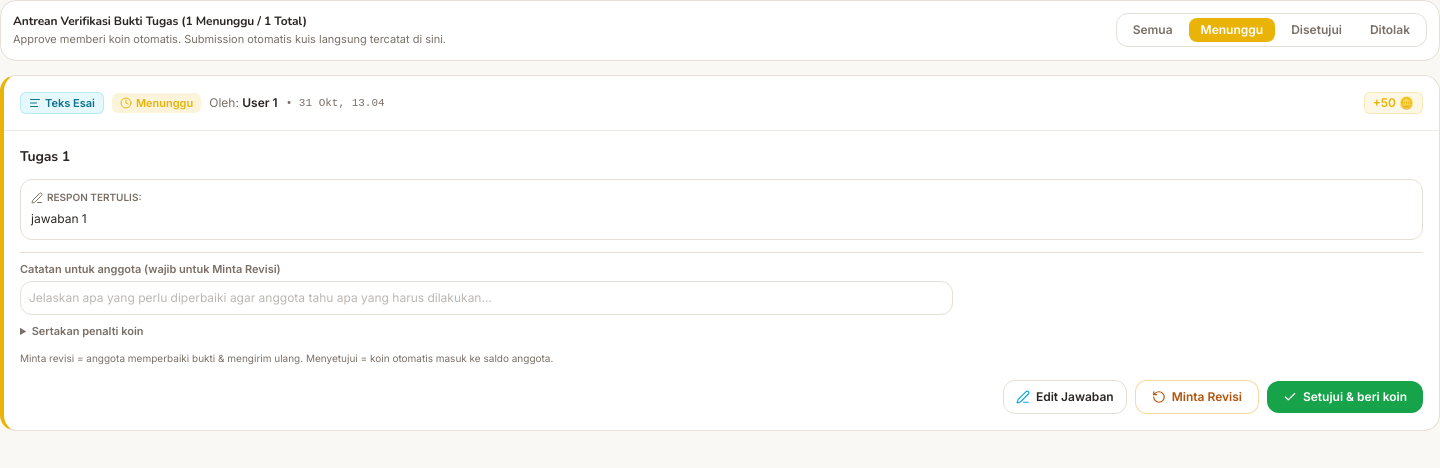
Test: SubmissionsQueue Minta Revisi flow › blocks verification and displays error when note is empty
Check: the heading "Tugas 1" is shown, box x1=20 y1=147 x2=70 y2=166
Click the button with aria-label "Minta revisi Tugas 1" at (1197, 397), box x1=1135 y1=380 x2=1259 y2=414
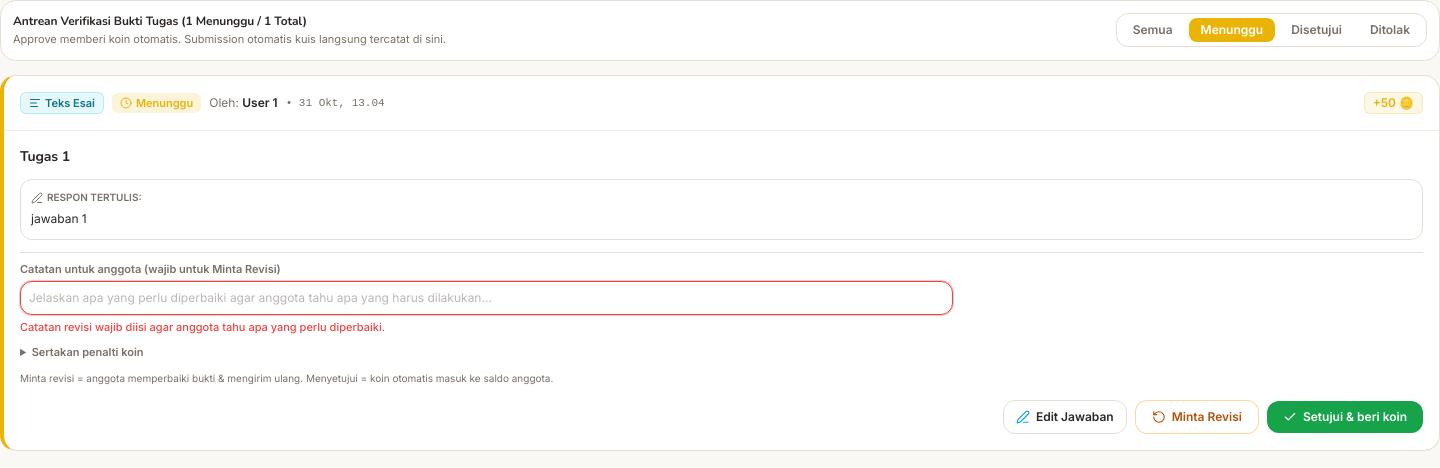
Check: the text "Catatan revisi wajib diisi agar anggota tahu apa yang perlu diperbaiki." is shown, box x1=20 y1=320 x2=385 y2=334
